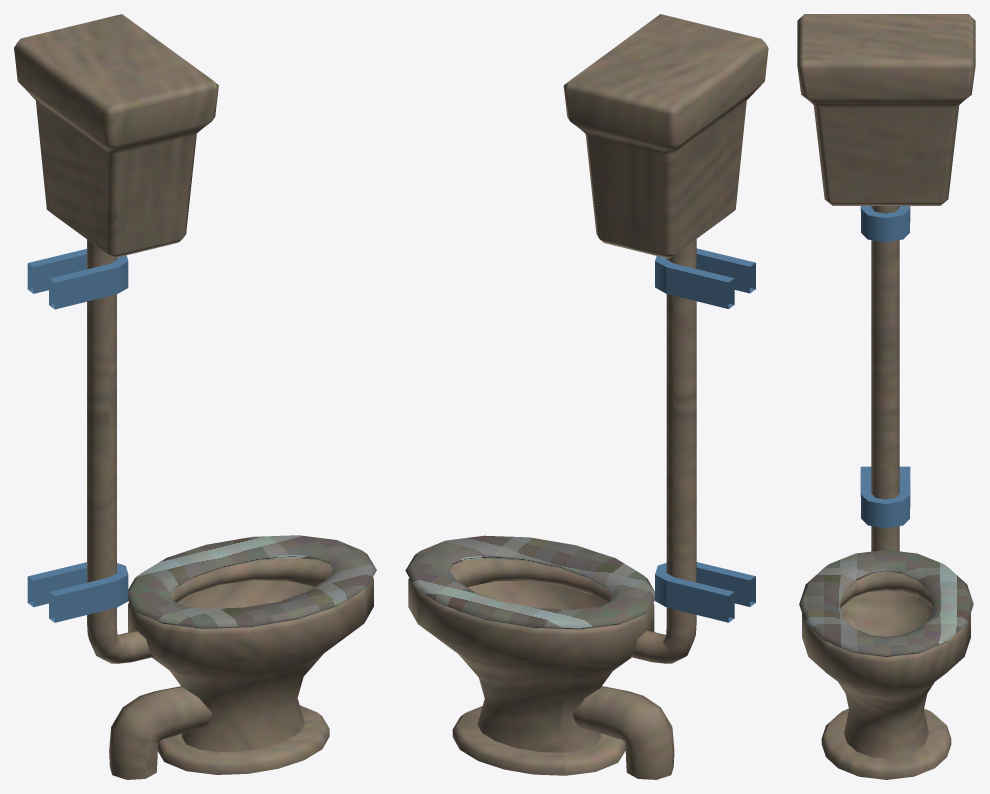
Rendered from Toilet.fbx.
3 views of the same model, side by side, from view 1: azimuth 30°, elevation 25°; view 2: azimuth 150°, elevation 25°; view 3: azimuth 270°, elevation 25° (orthographic). The views are drawn at different scales.
Visible parts, largest first — view 1: Toilet; view 2: Toilet; view 3: Toilet.
Boxes of the visible parts, <box> form: Toilet: <box>14,14,376,779</box>; Toilet: <box>405,14,768,779</box>; Toilet: <box>797,14,975,779</box>.
Size of the model in its own units: 97.11 by 203 by 50.31.
